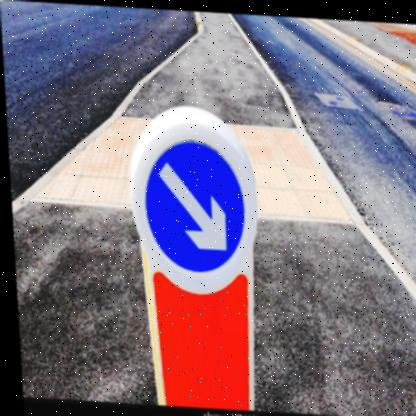Keep right: (130, 119, 258, 278)
